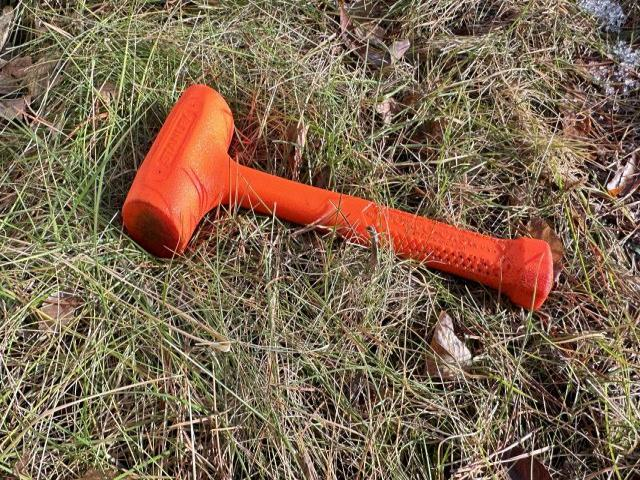hammer: (118, 81, 557, 310)
